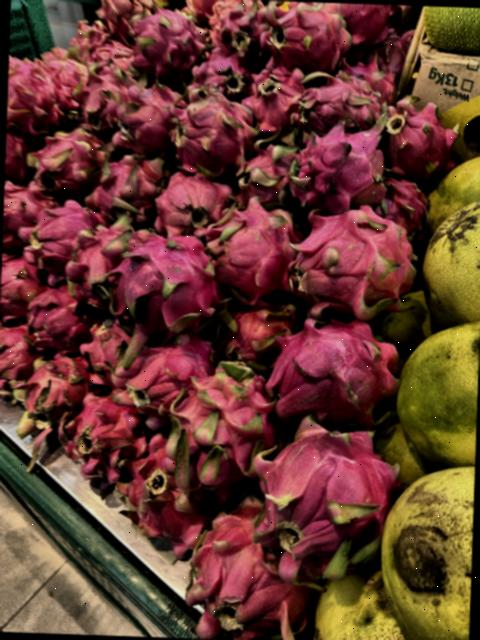buah-naga-matang: (250, 407, 394, 575), (169, 501, 308, 640), (252, 307, 395, 423), (273, 203, 412, 306), (106, 230, 224, 338), (174, 368, 270, 483), (283, 125, 400, 214), (128, 444, 211, 561), (172, 92, 259, 180), (201, 205, 294, 287), (64, 388, 144, 478), (16, 357, 94, 436), (116, 2, 206, 70), (113, 337, 201, 403), (13, 204, 105, 267), (25, 126, 106, 197), (260, 8, 350, 70), (59, 221, 129, 299), (80, 157, 164, 221), (108, 80, 182, 151), (148, 169, 228, 231), (7, 52, 64, 132), (22, 285, 88, 354), (238, 73, 310, 135), (388, 109, 458, 172), (75, 316, 127, 386), (292, 80, 373, 124), (232, 147, 291, 198), (192, 54, 248, 96)
